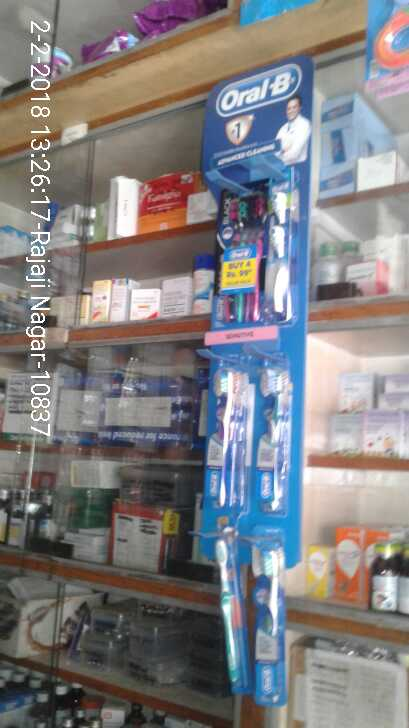oralb: (210, 187, 265, 327), (253, 361, 303, 508), (211, 366, 250, 507), (260, 193, 295, 326)
